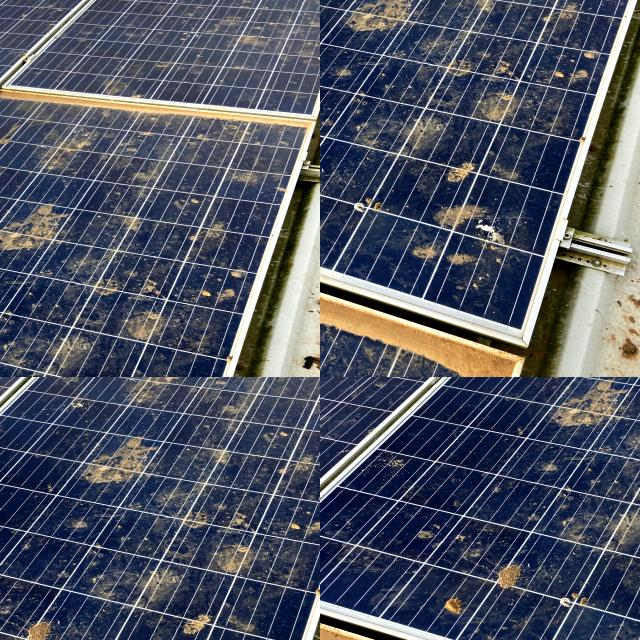bird: (451, 538, 554, 598), (548, 377, 640, 443), (544, 493, 640, 545), (356, 448, 452, 494), (408, 596, 506, 628), (548, 578, 602, 630), (0, 377, 8, 382), (0, 377, 6, 382), (0, 377, 6, 381), (0, 377, 6, 380), (0, 377, 4, 380)
crack: (320, 0, 399, 18), (404, 0, 498, 14), (410, 0, 493, 15), (409, 0, 486, 16), (327, 0, 399, 16), (413, 0, 478, 13), (337, 0, 397, 14), (418, 0, 480, 13), (320, 0, 359, 20), (348, 0, 410, 12), (320, 0, 361, 18), (320, 0, 363, 16), (320, 0, 377, 12), (320, 0, 356, 18), (320, 0, 358, 17), (320, 0, 351, 18), (320, 0, 359, 14), (320, 0, 358, 14), (320, 0, 357, 13), (320, 0, 351, 15), (320, 0, 353, 14), (320, 0, 357, 12), (320, 0, 351, 12), (320, 0, 350, 12), (320, 0, 346, 13), (320, 0, 353, 10), (320, 0, 350, 10), (320, 0, 345, 8)
hotspot: (0, 73, 74, 178), (54, 44, 118, 98)
